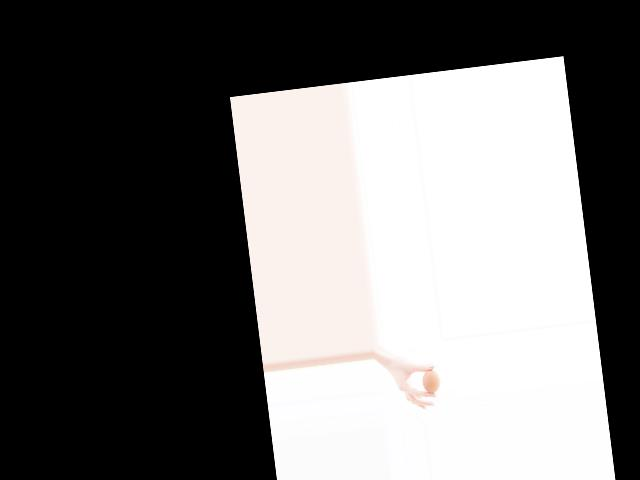egg: (421, 368, 441, 394)
